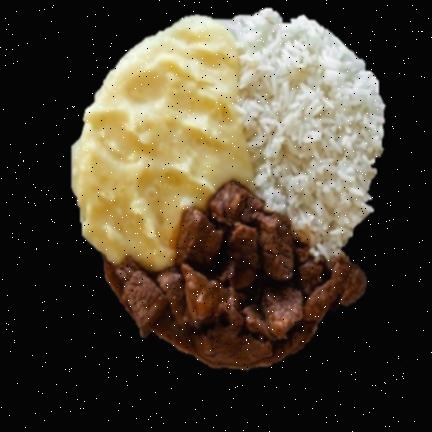meat: (103, 181, 365, 367)
potato: (72, 15, 253, 270)
rice: (230, 8, 383, 259)
